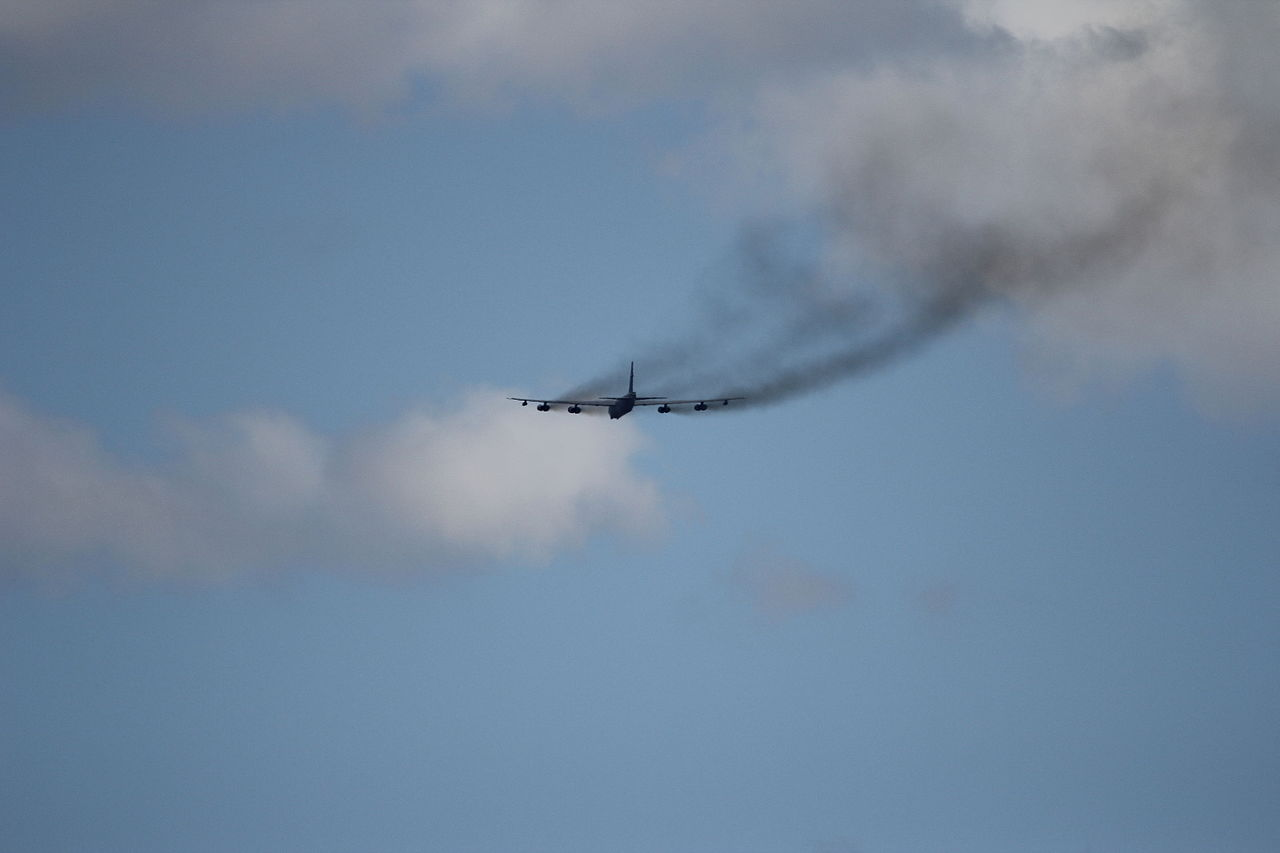B52: (505, 361, 746, 420)
